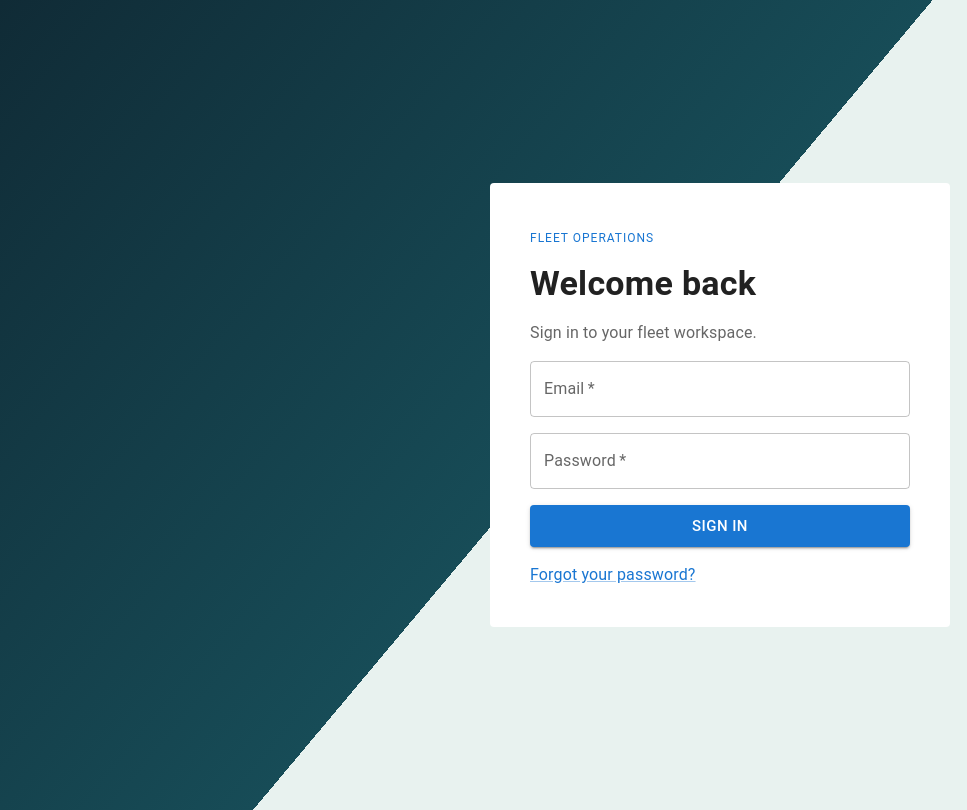
Test: Authentication experience › shows a generic failed-login response without authenticating
expect the heading "Welcome back" is shown: met, box [530,263,756,303]
Type "owner@fleet.example" into the field labelled "Email".
click(720, 389); type("owner@fleet.example")  # box [530,361,910,417]
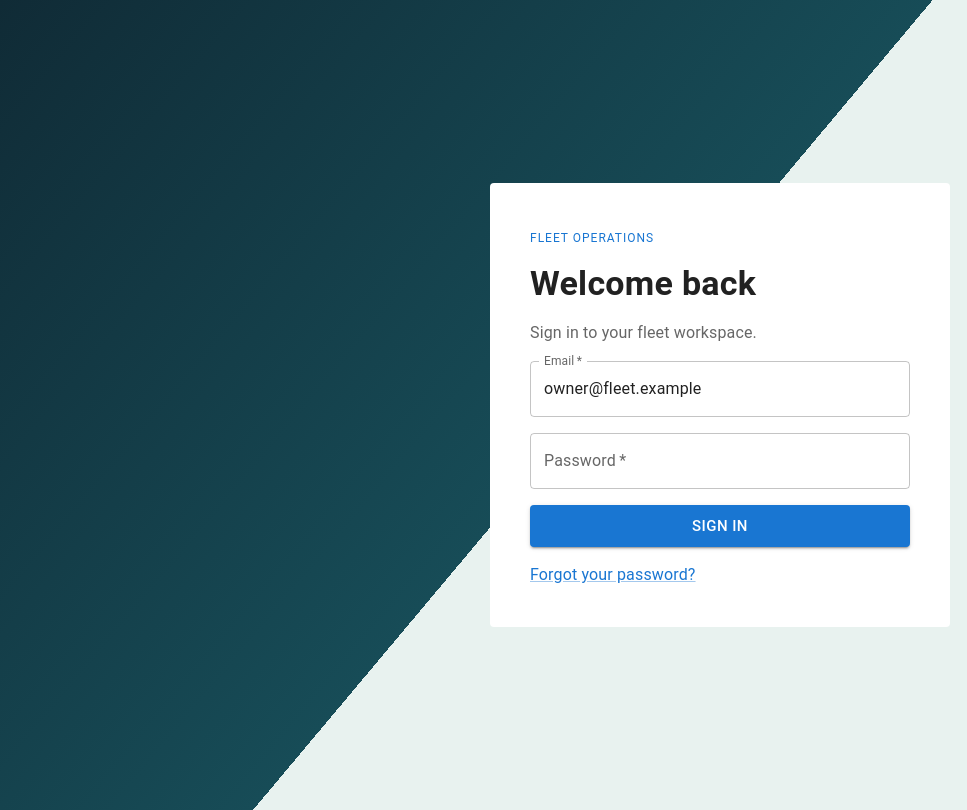
Type "FictionalPassword!42" into the password field labelled "Password".
click(720, 461); type("FictionalPassword!42")  # box [530,433,910,489]
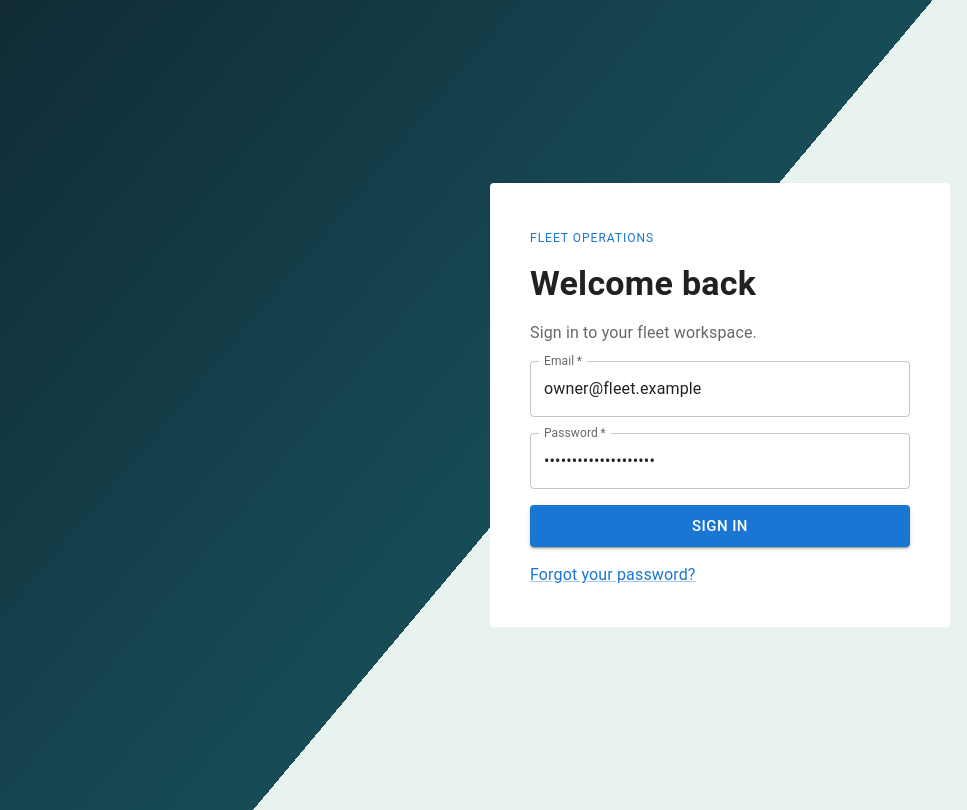
Click the button "Sign in".
click(720, 526)  # box [530,505,910,547]
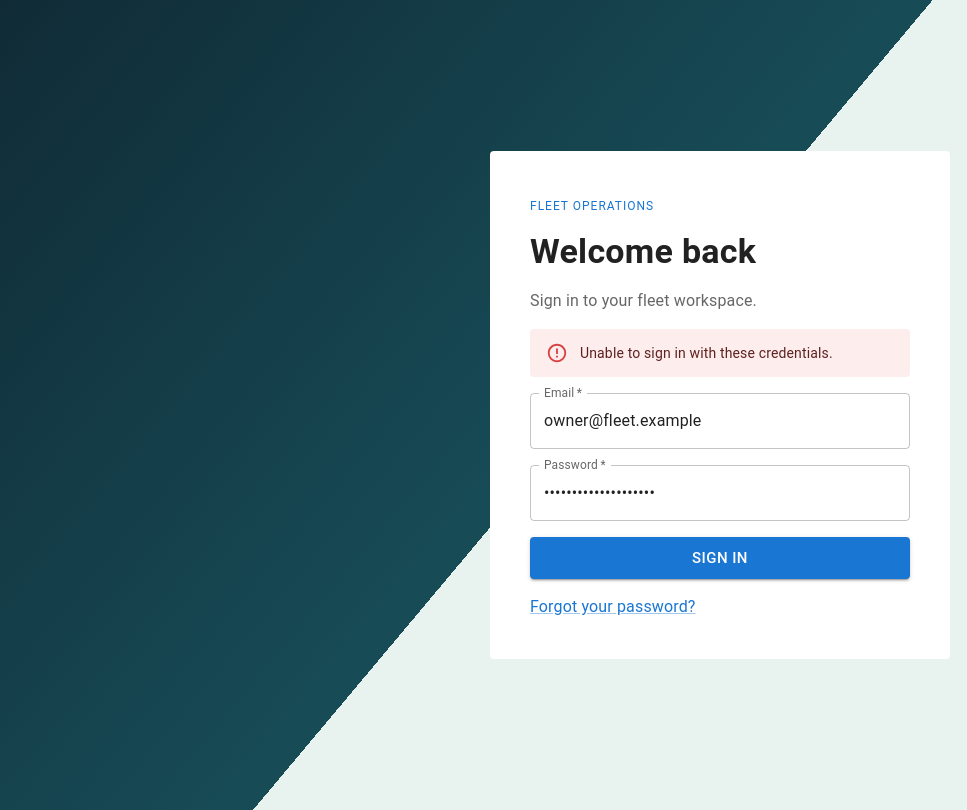
expect the message shows "Unable to sign in": met, box [580,345,833,361]
